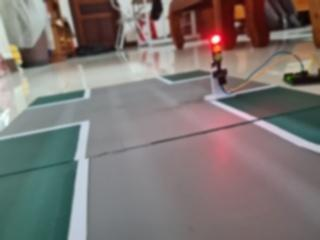red: (199, 27, 233, 76)
